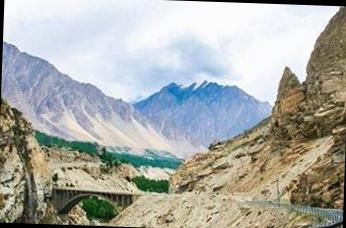right_turn: (261, 175, 344, 228)
